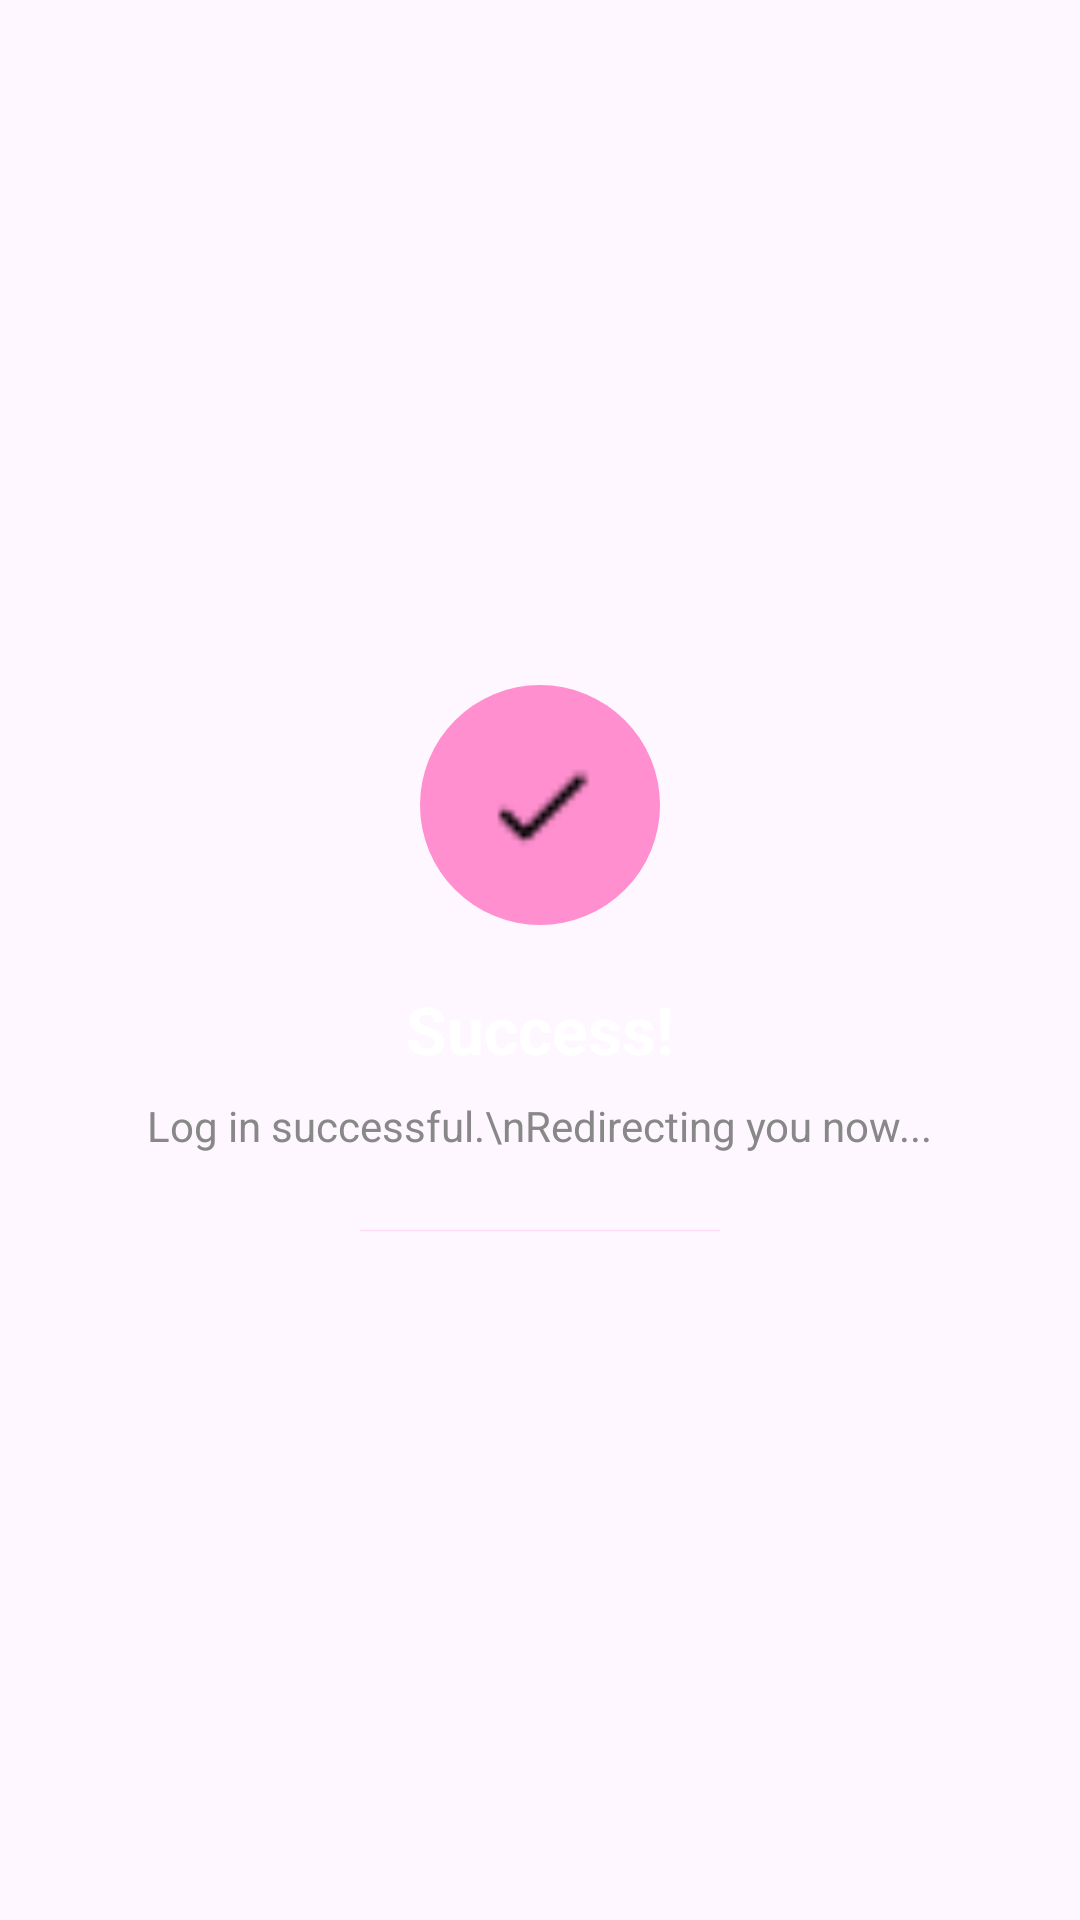

Screen size 1080px×1920px. Icon name, then its center in pixels as [x,y]:
check: [543,807]
